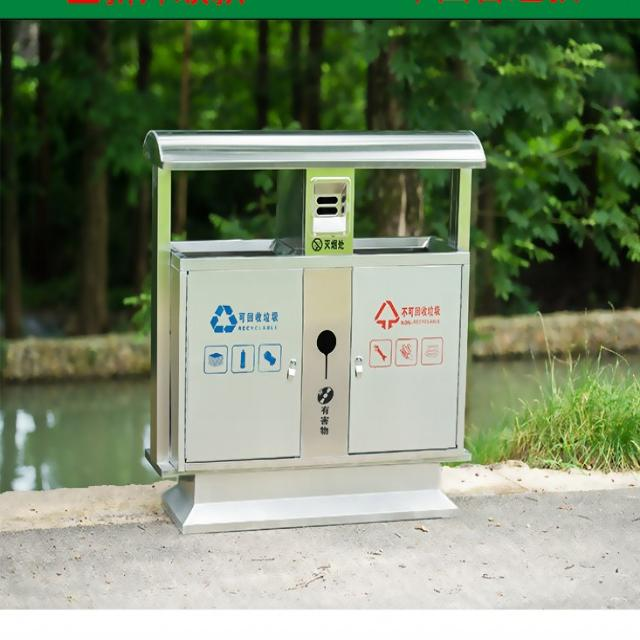ash bin: (136, 117, 490, 533)
